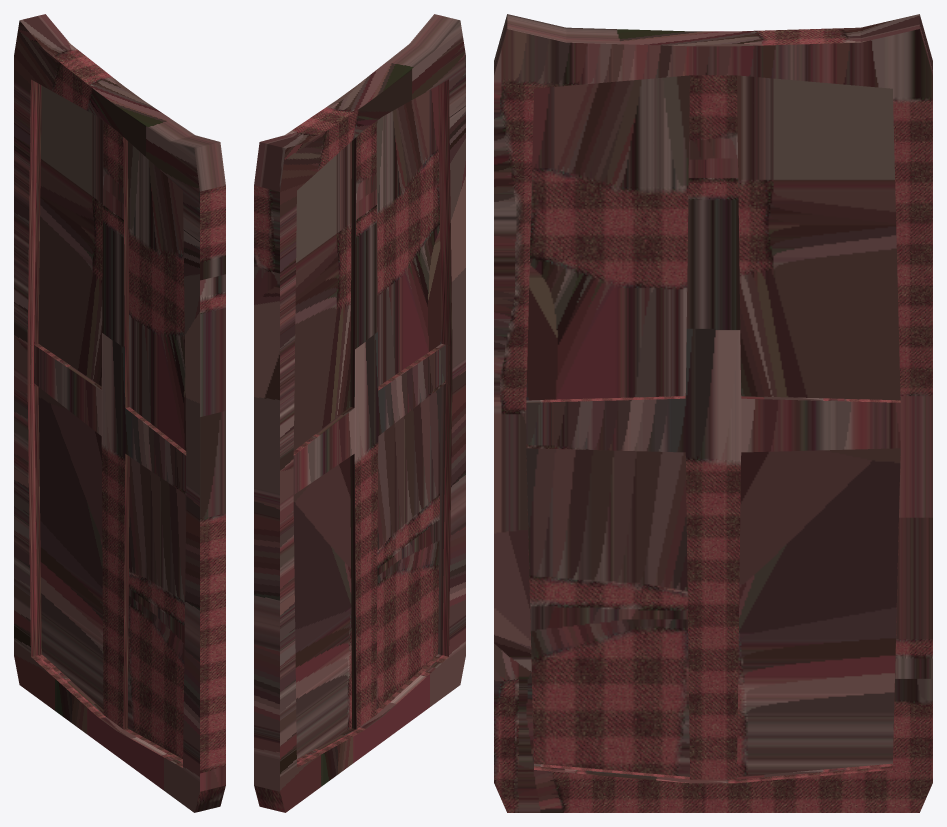
Rendered from Window.fbx.
The picture shows the model from 3 angles, left to right: view 1: azimuth 30°, elevation 25°; view 2: azimuth 150°, elevation 25°; view 3: azimuth 270°, elevation 25°; orthographic projection. The views are drawn at different scales.
Visible parts, largest first — view 1: Border, Glass; view 2: Border, Glass; view 3: Glass, Border.
Part boxes in pixels (x1,y1,x2,y2): Border: (14,14,225,812); Glass: (38,85,186,758); Border: (254,14,465,812); Glass: (293,85,441,758); Glass: (526,75,900,776); Border: (494,14,932,812).
Size of the model in its own units: 0.6627 by 16.17 by 8.2.
